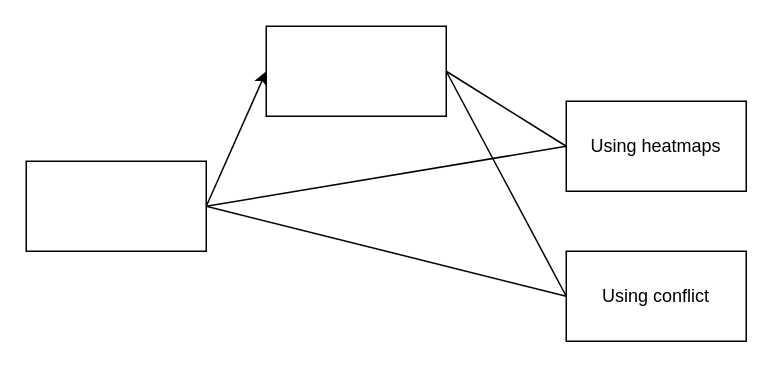
Some shapes in this 773 by 368 pixel diagram are drawn without their labels. The centre of each missing label's shape, as x and y in pixels:
Path Elimination: the point at 115,205
Path Selection encoding: the point at 355,70
